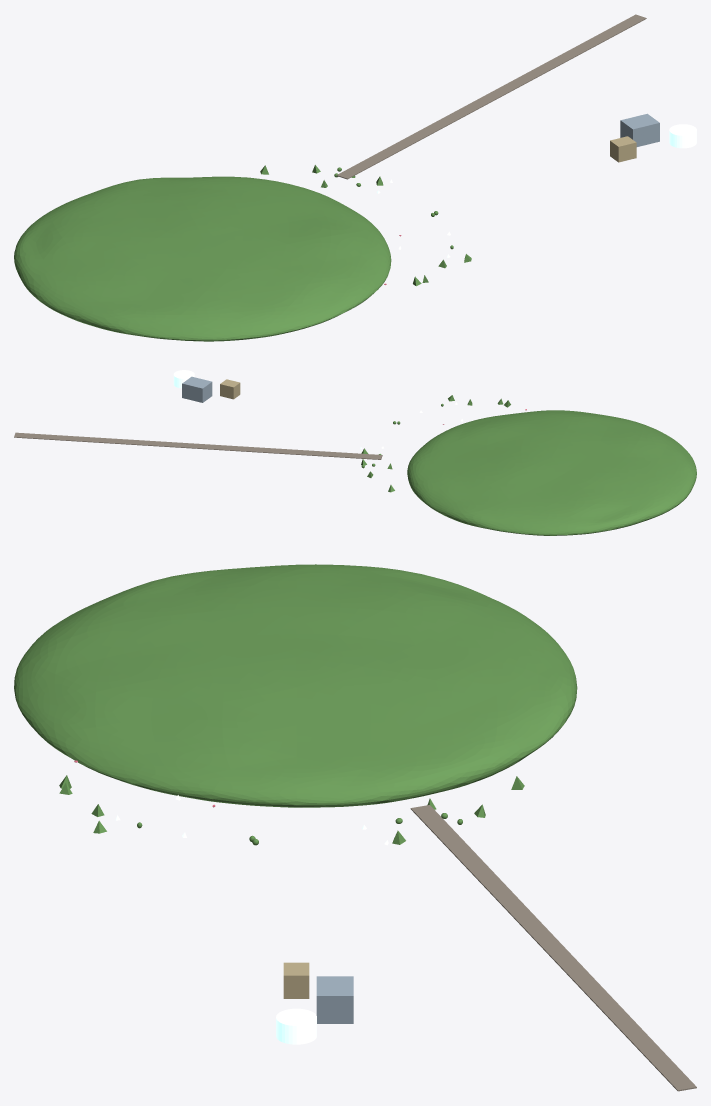
File: Island_NaturePlains.fbx
3 renders of one model, top to bottom at view 1: azimuth 30°, elevation 25°; view 2: azimuth 150°, elevation 25°; view 3: azimuth 270°, elevation 25°, orthographic. The views are drawn at different scales.
Parts seen in each view (by area): view 1: TERRAIN_NaturePlains, BRIDGE_NaturePlains_to_AirPeaks, LAB_BUILDING, HEALER_CENTER, SHOP_BUILDING; view 2: TERRAIN_NaturePlains, BRIDGE_NaturePlains_to_AirPeaks, LAB_BUILDING, SHOP_BUILDING; view 3: TERRAIN_NaturePlains, BRIDGE_NaturePlains_to_AirPeaks, LAB_BUILDING, HEALER_CENTER, SHOP_BUILDING.
Boxes of the visible parts, x1,y1,x2,y2 form: TERRAIN_NaturePlains: [14, 176, 391, 341]; BRIDGE_NaturePlains_to_AirPeaks: [336, 14, 646, 179]; LAB_BUILDING: [620, 113, 659, 146]; HEALER_CENTER: [669, 124, 696, 148]; SHOP_BUILDING: [610, 136, 636, 162]; TERRAIN_NaturePlains: [407, 410, 696, 535]; BRIDGE_NaturePlains_to_AirPeaks: [14, 432, 382, 459]; LAB_BUILDING: [182, 376, 212, 402]; SHOP_BUILDING: [220, 379, 240, 399]; TERRAIN_NaturePlains: [14, 564, 577, 807]; BRIDGE_NaturePlains_to_AirPeaks: [410, 805, 696, 1091]; LAB_BUILDING: [316, 976, 353, 1023]; HEALER_CENTER: [276, 1008, 316, 1044]; SHOP_BUILDING: [283, 962, 309, 998].
Size of the model in its own units: 491 by 18.82 by 265.
